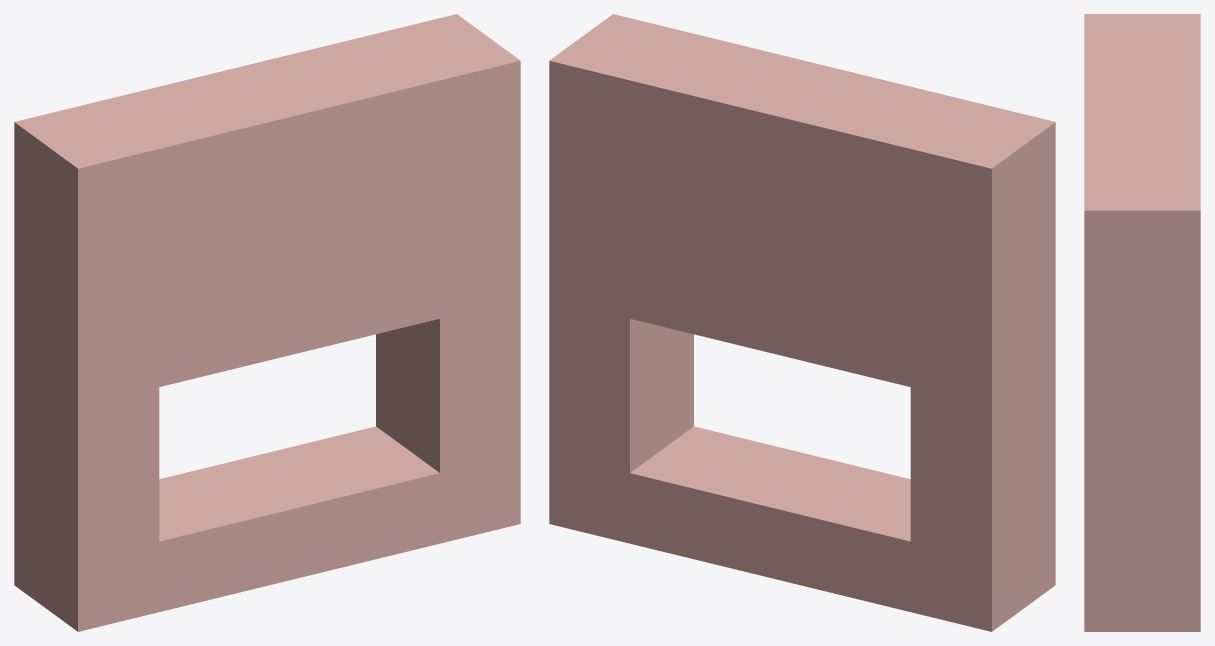
Rendered from Wall_Glass.fbx.
3 renders of one model, left to right at view 1: azimuth 30°, elevation 25°; view 2: azimuth 150°, elevation 25°; view 3: azimuth 270°, elevation 25°, orthographic. The views are drawn at different scales.
Parts seen in each view (by area): view 1: Wall_Glass; view 2: Wall_Glass; view 3: Wall_Glass.
Part boxes in pixels (bbox=[...]): Wall_Glass: bbox=[14, 14, 520, 631]; Wall_Glass: bbox=[549, 14, 1055, 631]; Wall_Glass: bbox=[1084, 14, 1200, 631].
Bounding box in the file's own units: 1000 × 1000 × 250.
